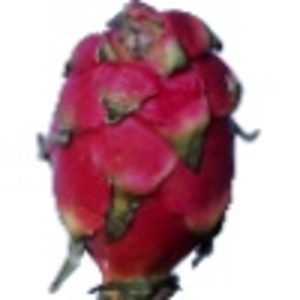pitaia: (37, 1, 259, 300)
